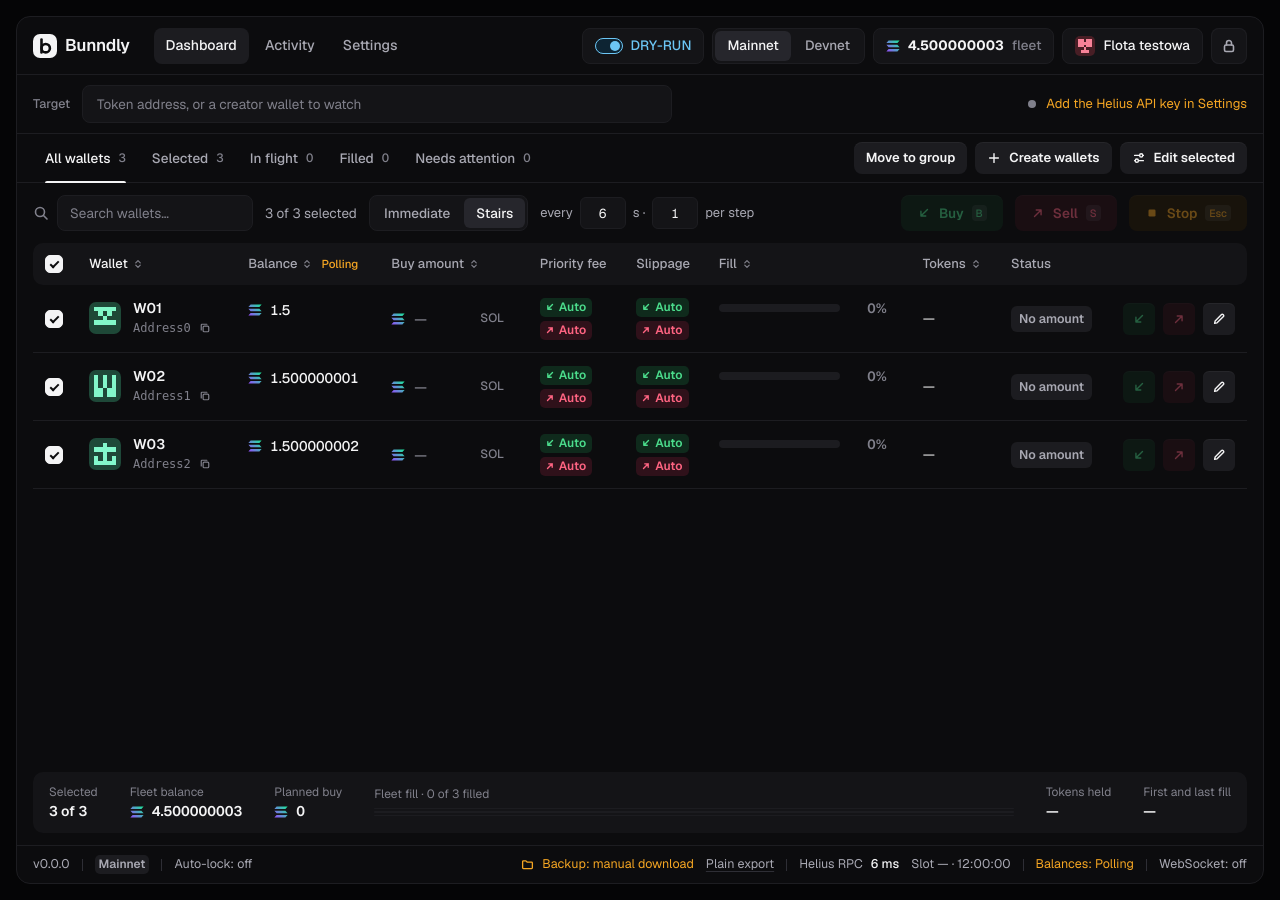
Test: operations log on the Activity screen › empty: download buttons disabled
Click the button "Activity": click(290, 46) [253,28,327,64]
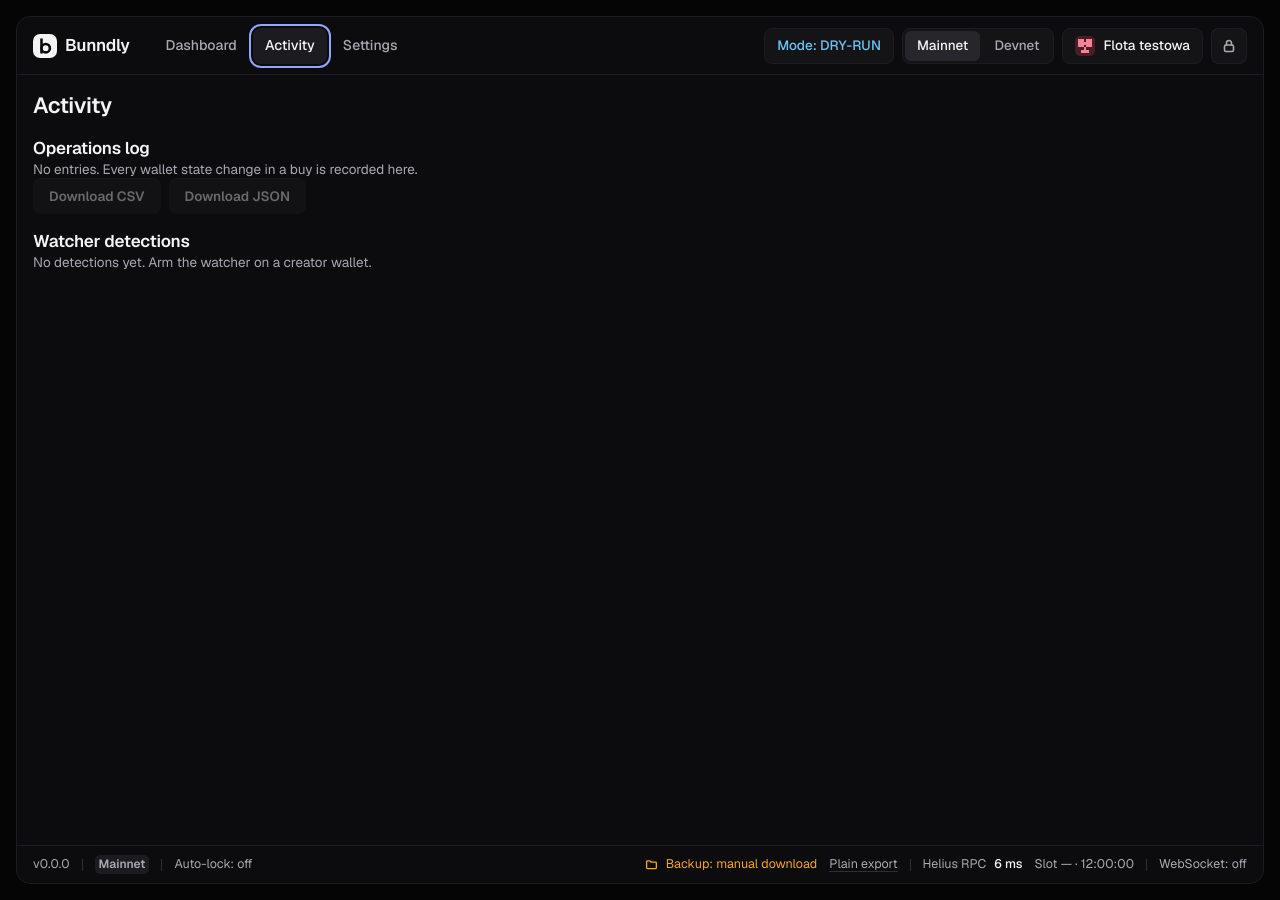
expect the heading "Operations log" is shown: met, box [33,137,150,159]
expect the text "No entries" is shown: met, box [33,160,418,178]
expect the button "Download CSV" is disabled: met, box [33,178,160,214]
